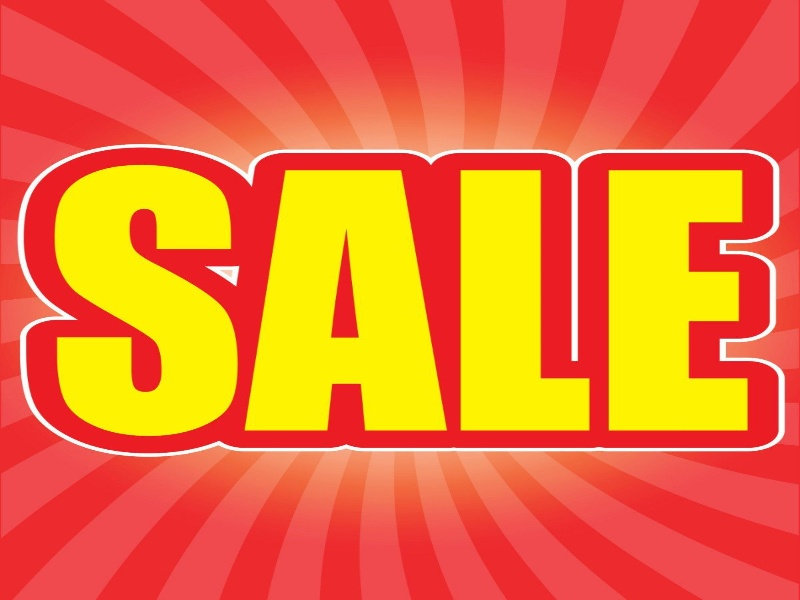letters: (14, 138, 242, 454), (246, 165, 448, 435), (603, 163, 755, 438), (458, 172, 598, 435)
